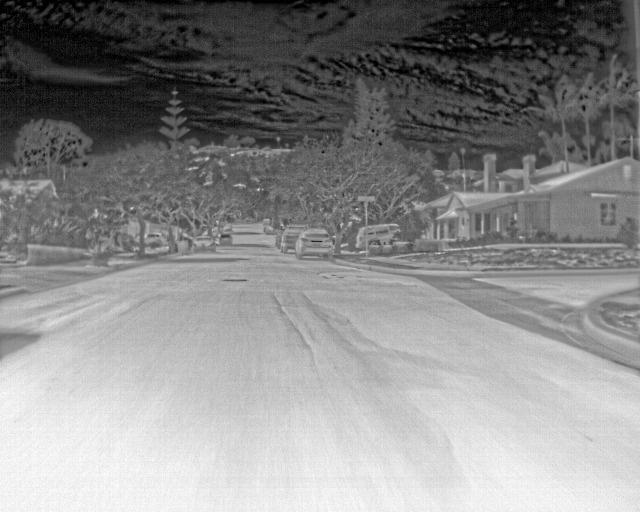car: (292, 226, 335, 262), (370, 222, 400, 244), (189, 234, 218, 256), (280, 221, 299, 253), (352, 224, 368, 250), (144, 233, 164, 249), (219, 232, 233, 248)
